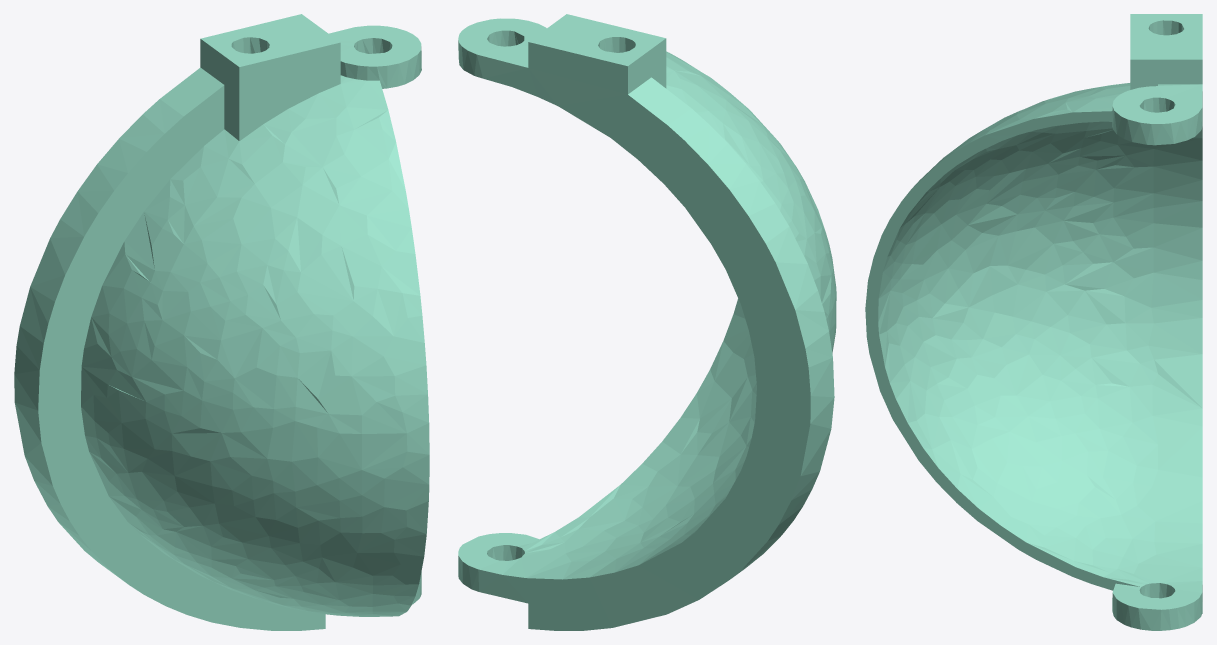
The model's file is i02_head_left_top_eyelid_visual.obj.light.glb.
3 renders of one model, left to right at view 1: azimuth 30°, elevation 25°; view 2: azimuth 150°, elevation 25°; view 3: azimuth 270°, elevation 25°, orthographic. The views are drawn at different scales.
Bounding box in the file's own units: 0.2107 × 0.3191 × 0.1761.
